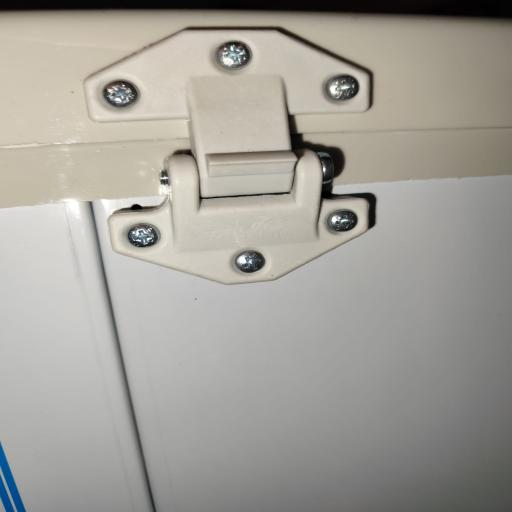Phillips: (316, 75, 368, 110), (213, 39, 251, 72), (126, 221, 164, 252), (100, 77, 136, 109), (232, 247, 270, 276), (324, 206, 358, 236)
